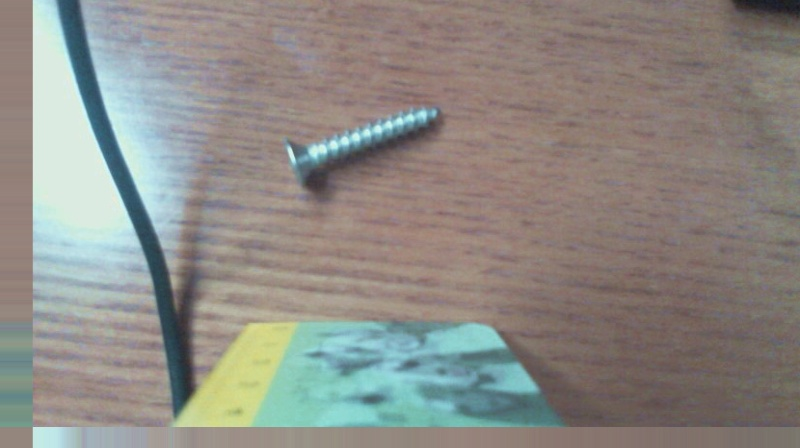S001: (282, 102, 444, 191)
